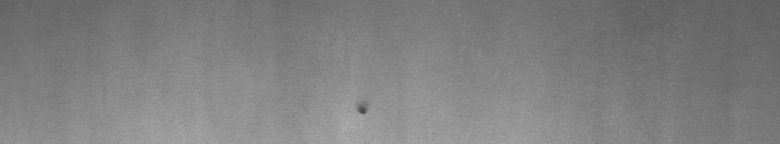fi: (353, 100, 372, 120)
